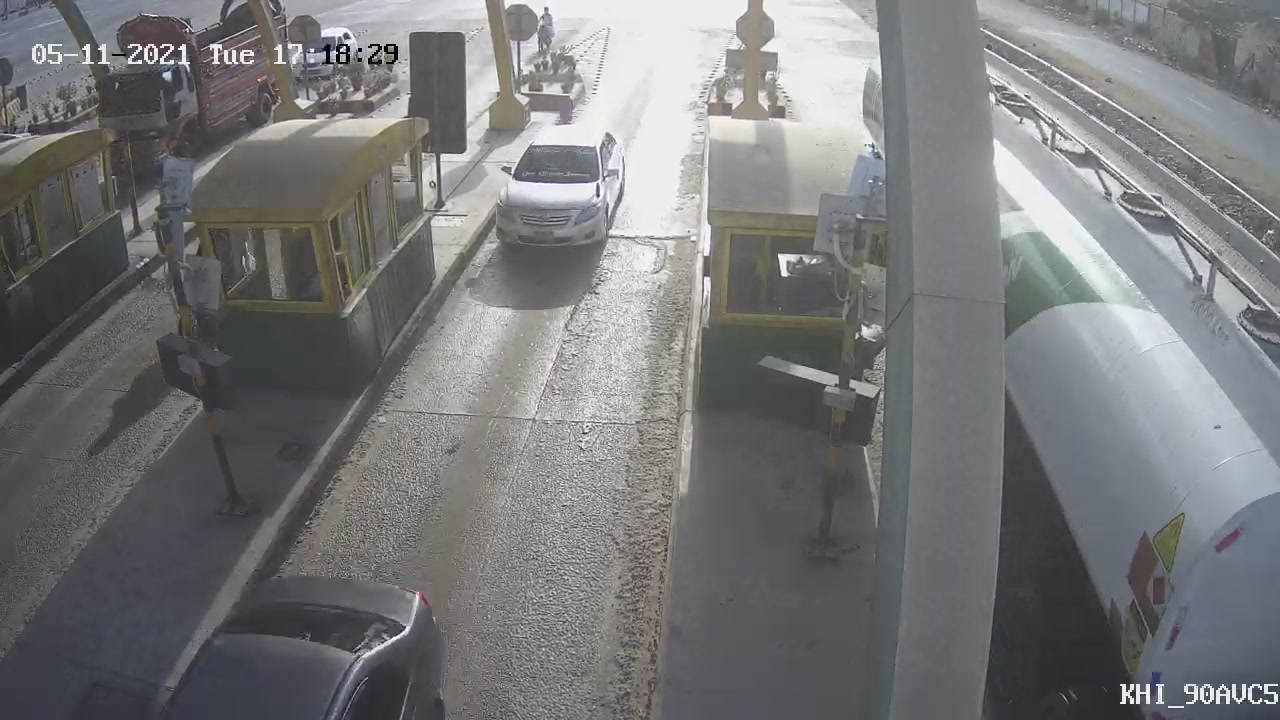F1: (466, 104, 652, 281)
